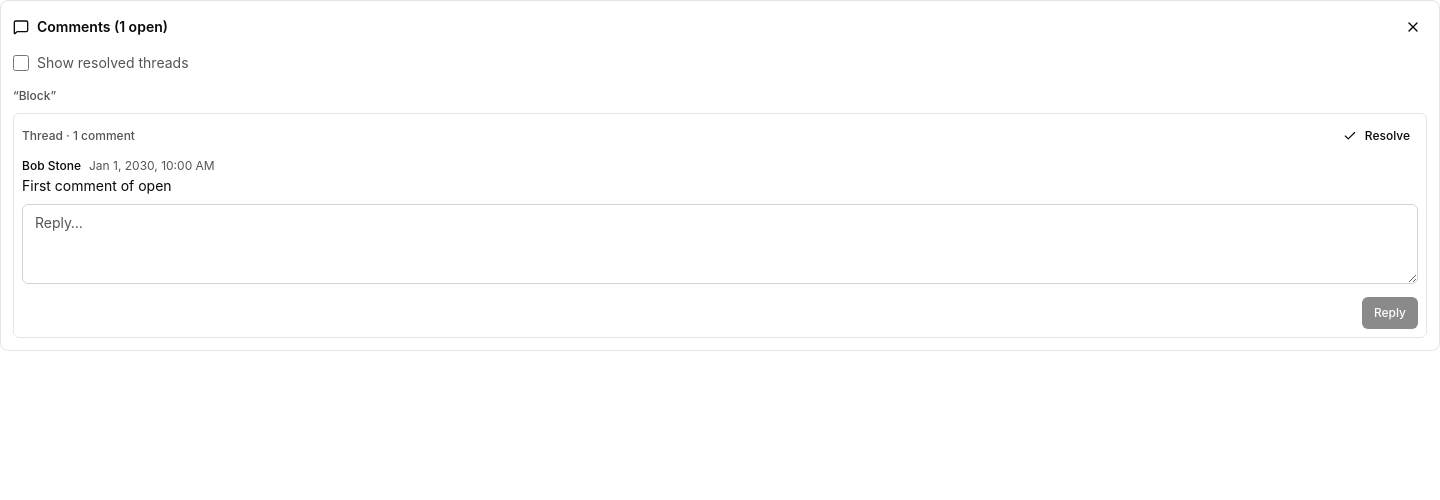
it: CommentsPanel › keeps resolved threads out of sight until asked
Expected: the number of list items with test id "comment-thread" is 1, [13,113,1427,338]
What coordinates should you click on to do the following:
click the checkbox labelled "Show resolved threads"
I would click on:
 (21, 63)
Its box is [13,55,29,71].
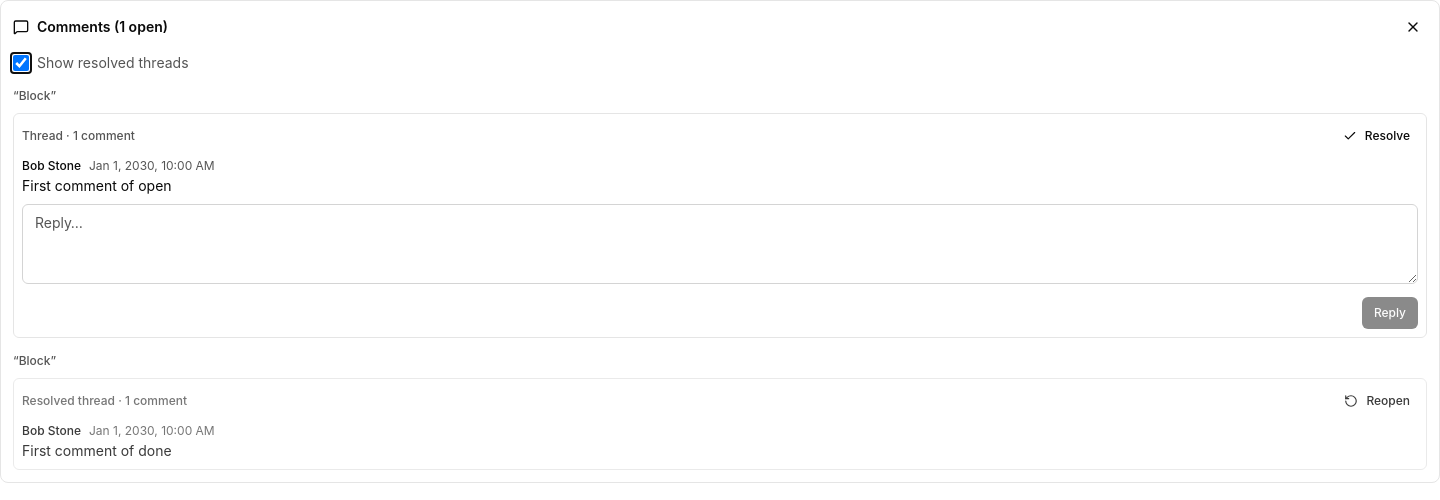
Expected: the number of list items with test id "comment-thread" is 2, [13,113,1427,338]; [13,378,1427,470]
Expected: the heading "Resolved thread · 1 comment" is shown, [22,393,187,409]
